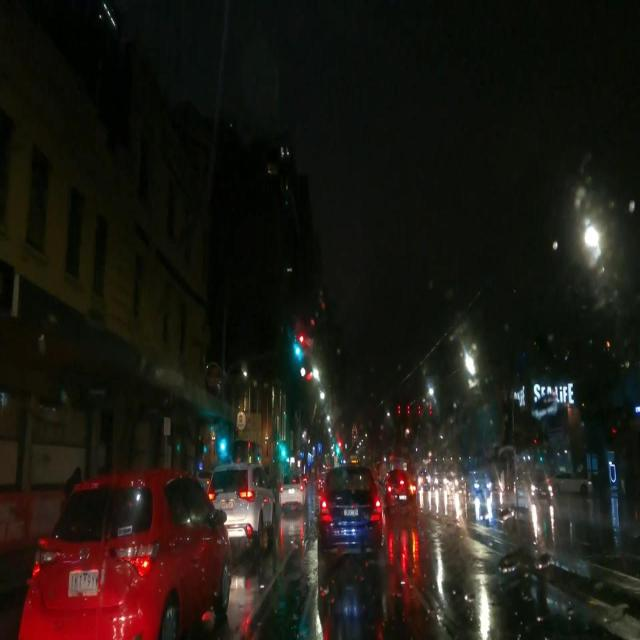Car: (24, 473, 229, 639), (317, 463, 380, 552), (210, 467, 273, 546), (384, 469, 416, 513), (281, 474, 305, 511)
